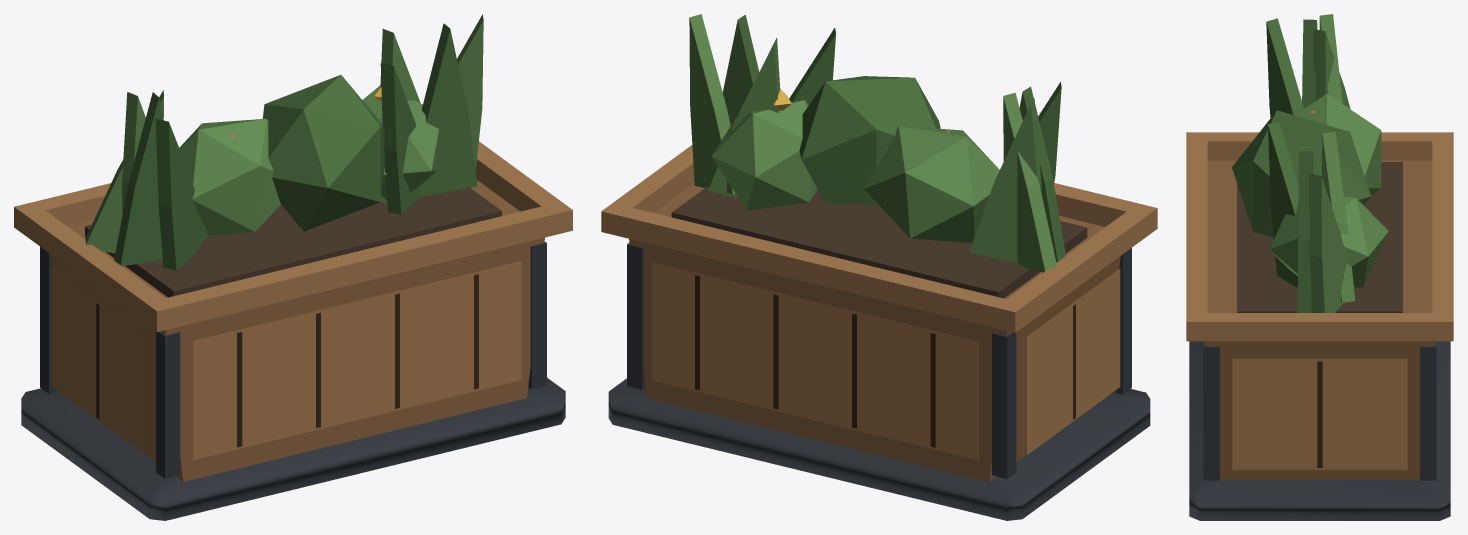
File: street-planter.glb
3 renders of one model, left to right at view 1: azimuth 30°, elevation 25°; view 2: azimuth 150°, elevation 25°; view 3: azimuth 270°, elevation 25°, orthographic. The views are drawn at different scales.
Parts seen in each view (by area): view 1: Merged_city-timber-light, Merged_city-foliage-deep, Merged_city-metal-dark, Merged_city-timber, Merged_city-foliage, Merged_city-soil, Merged_prop-body-deep-surface; view 2: Merged_city-timber-light, Merged_city-foliage, Merged_city-metal-dark, Merged_city-timber, Merged_city-foliage-deep, Merged_city-soil, Merged_prop-body-deep-surface; view 3: Merged_city-timber-light, Merged_city-metal-dark, Merged_city-timber, Merged_city-foliage, Merged_city-foliage-deep, Merged_city-soil, Merged_prop-body-deep-surface.
Boxes of the visible parts, bbox=[...] form: Merged_city-timber-light: bbox=[14, 141, 572, 459]; Merged_city-foliage-deep: bbox=[114, 23, 477, 270]; Merged_city-metal-dark: bbox=[21, 242, 565, 520]; Merged_city-timber: bbox=[51, 180, 544, 481]; Merged_city-foliage: bbox=[85, 14, 483, 253]; Merged_city-soil: bbox=[85, 187, 501, 297]; Merged_prop-body-deep-surface: bbox=[96, 274, 478, 447]; Merged_city-timber-light: bbox=[601, 145, 1157, 460]; Merged_city-foliage: bbox=[689, 14, 1057, 272]; Merged_city-metal-dark: bbox=[608, 243, 1150, 520]; Merged_city-timber: bbox=[629, 183, 1120, 481]; Merged_city-foliage-deep: bbox=[722, 14, 1065, 262]; Merged_city-soil: bbox=[671, 186, 1087, 298]; Merged_prop-body-deep-surface: bbox=[695, 275, 1075, 447]; Merged_city-timber-light: bbox=[1186, 132, 1453, 469]; Merged_city-metal-dark: bbox=[1189, 341, 1450, 520]; Merged_city-timber: bbox=[1204, 160, 1435, 479]; Merged_city-foliage: bbox=[1269, 14, 1388, 312]; Merged_city-foliage-deep: bbox=[1232, 18, 1370, 312]; Merged_city-soil: bbox=[1237, 162, 1402, 312]; Merged_prop-body-deep-surface: bbox=[1317, 361, 1322, 467].
Size of what is drawn, in the model's own units: 1.47 by 1.23 by 0.876.
